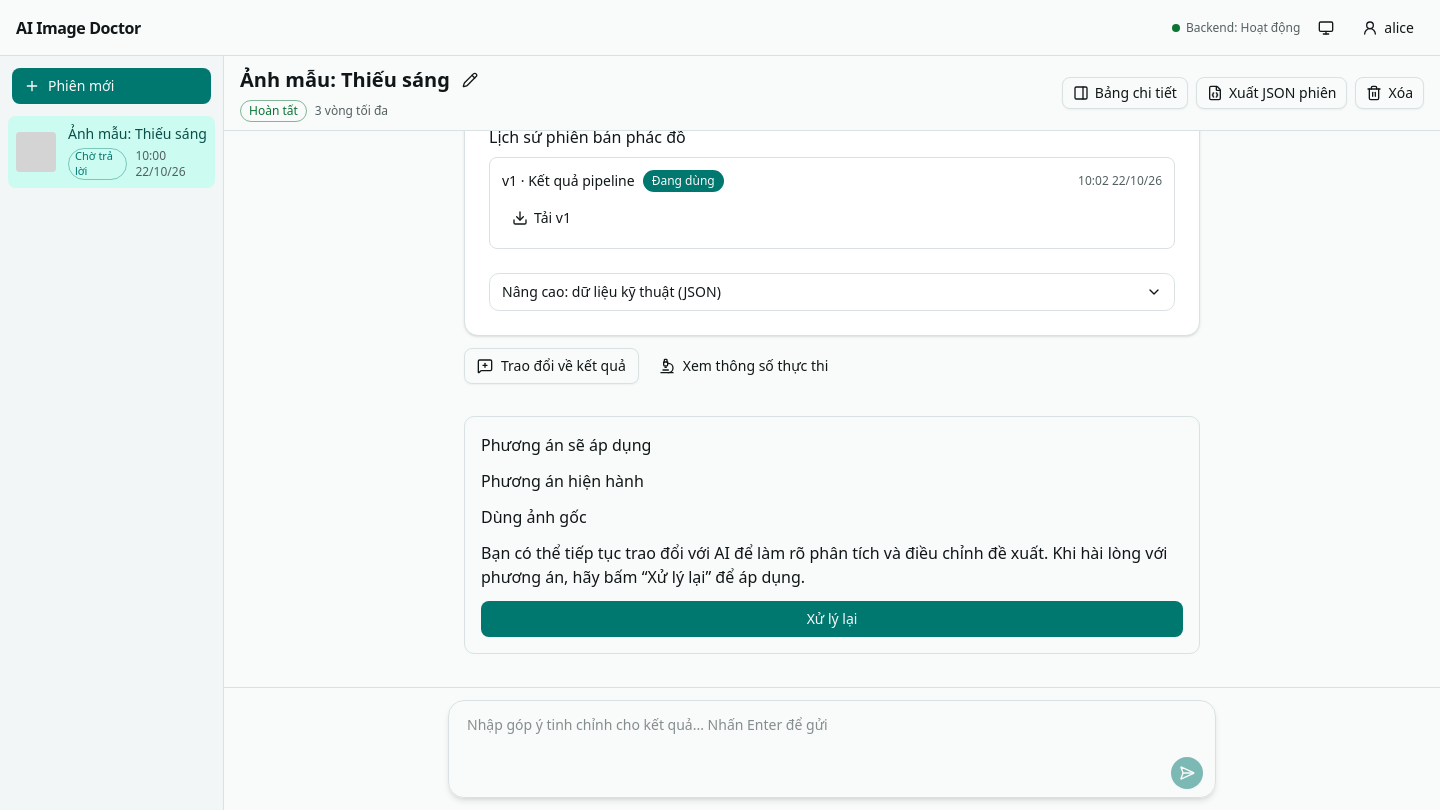
Scenario: latest backend compatibility › labels rejected attempts in the execution tab of the side pane
(page scrolled)
Click the button "Xem thông số thực thi": (744, 366) [647,348,840,384]
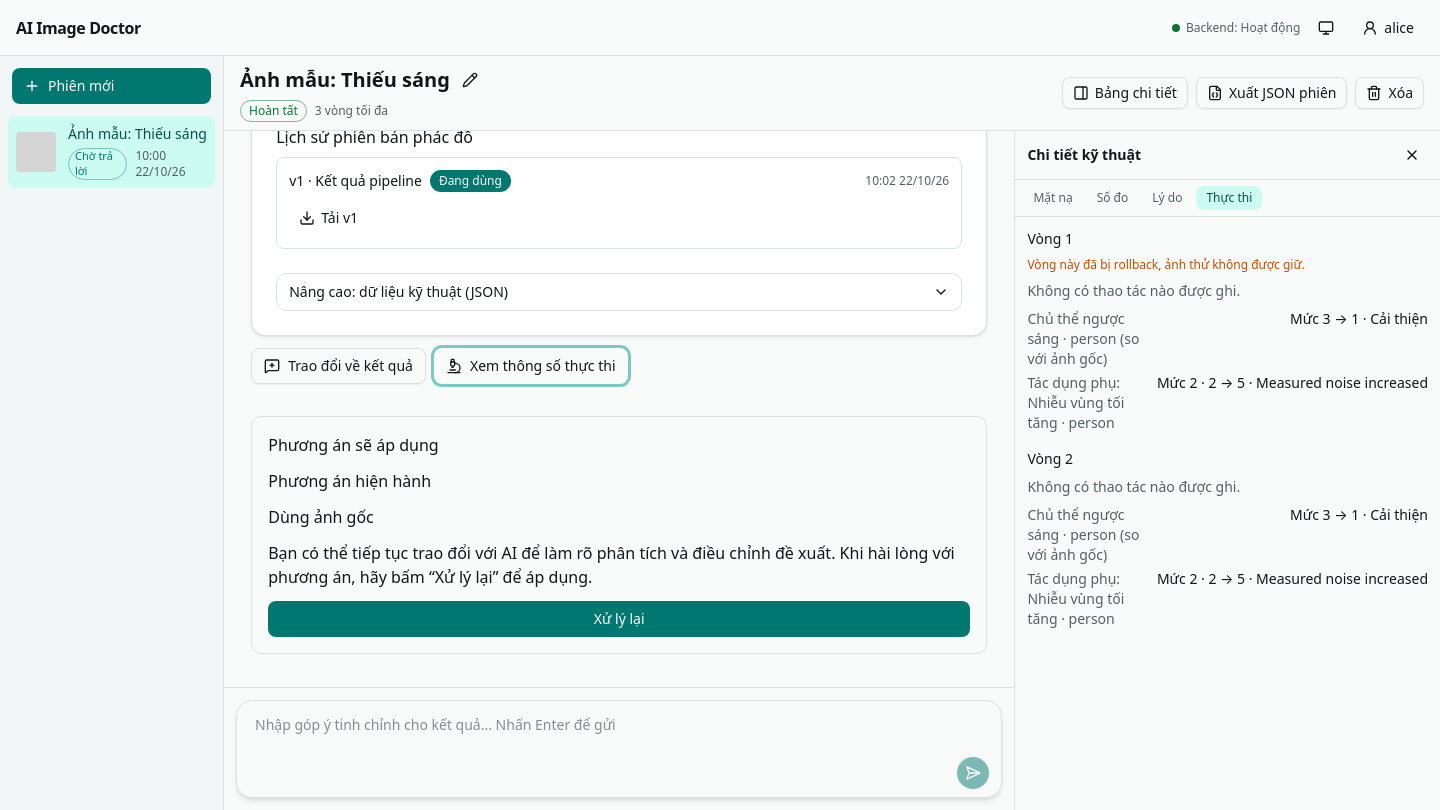
Expected: the text "Vòng này đã bị rollback, ảnh thử không được giữ." is shown, [1027,256,1305,273]
Expected: the text "Mức 3 → 1 · Cải thiện" below "Vòng 1" is shown, [1290,309,1428,328]
